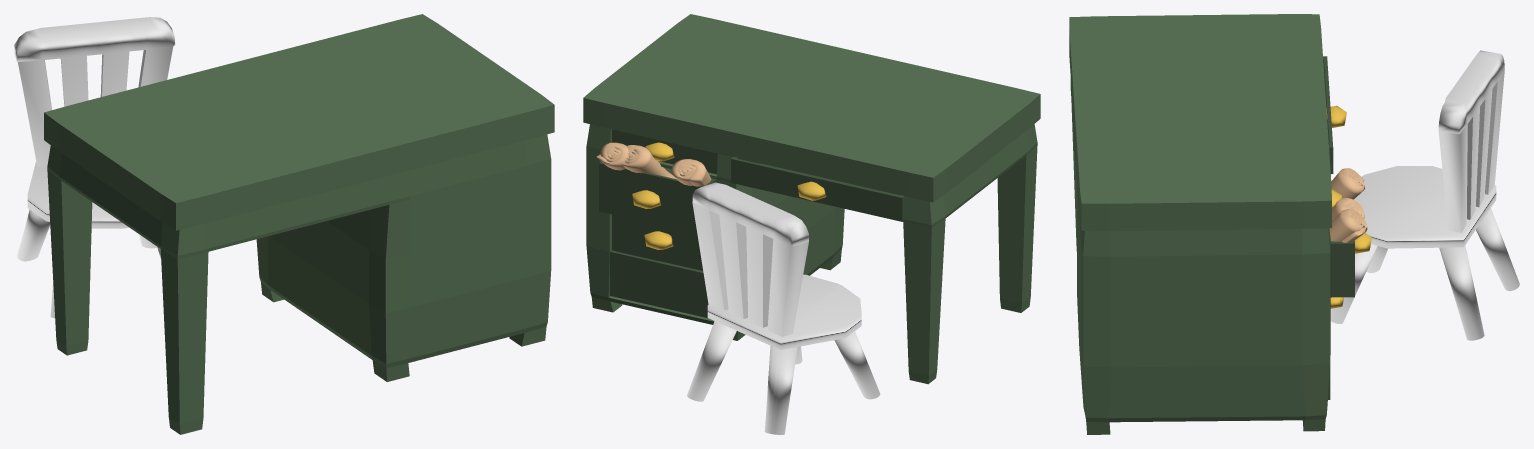
File: desk 1.fbx
3 views of the same model, side by side, from view 1: azimuth 30°, elevation 25°; view 2: azimuth 150°, elevation 25°; view 3: azimuth 270°, elevation 25° (orthographic). The views are drawn at different scales.
Parts seen in each view (by area): view 1: Cube.003; view 2: Cube.003; view 3: Cube.003.
Boxes of the visible parts, bbox=[...] form: Cube.003: bbox=[14, 14, 554, 434]; Cube.003: bbox=[583, 14, 1040, 434]; Cube.003: bbox=[1069, 14, 1519, 434].
Bounding box in the file's own units: 63.09 × 36.47 × 63.29.
